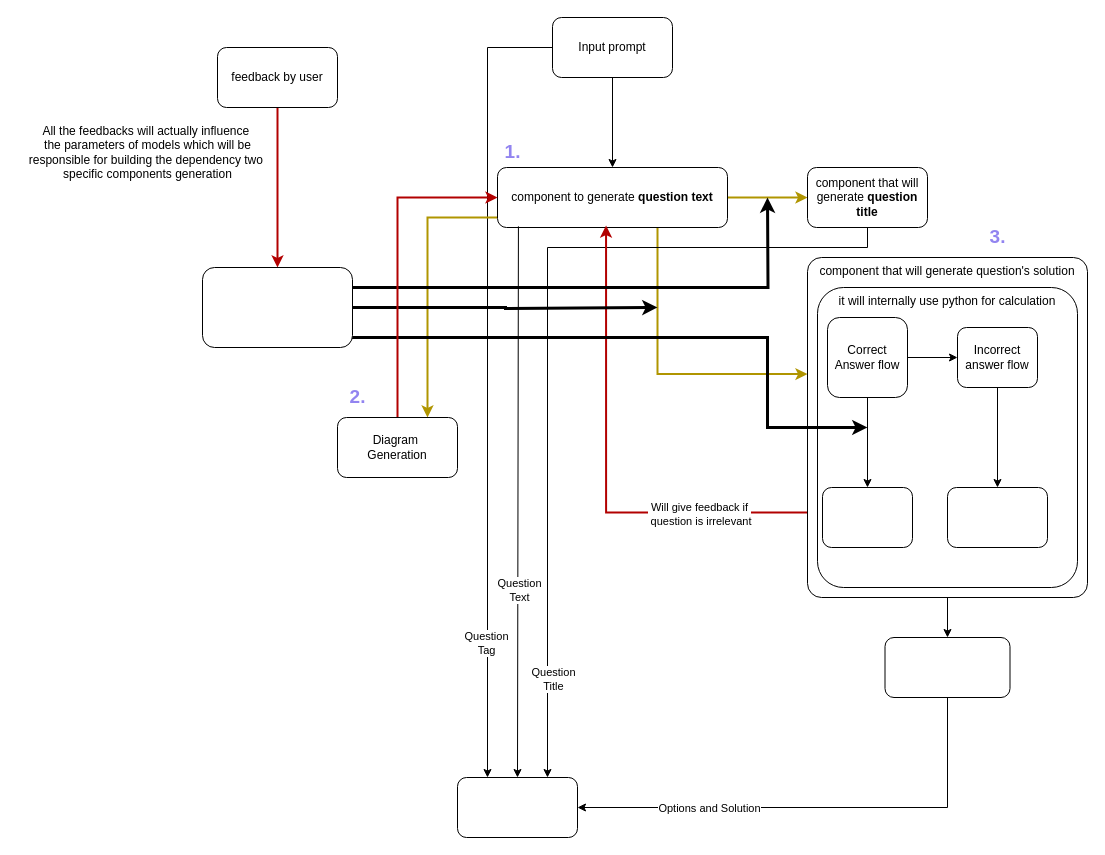
The diagram is 1105 pixels wide and 855 high, and some of its shapes have lost their labels. Each missing label, with the box of its shape:
answer and option generation: (884, 636, 1010, 698)
correct option with solution: (822, 486, 912, 548)
Misguiding options: (946, 486, 1048, 548)
model to categories based on component: (202, 266, 352, 348)
Output: (456, 776, 578, 838)
